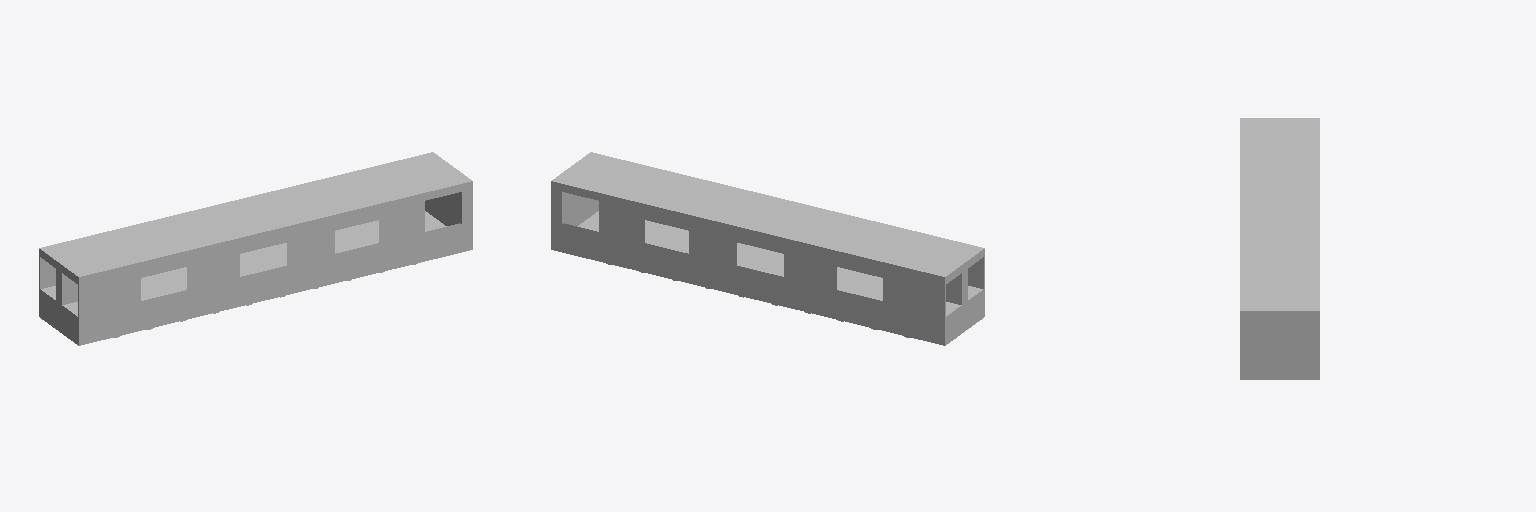
Rendered from train.obj.
The picture shows the model from 3 angles: view 1: azimuth 30°, elevation 25°; view 2: azimuth 150°, elevation 25°; view 3: azimuth 270°, elevation 25°; orthographic projection.
Visible parts, largest first — view 1: Cube.001_Cube.002; view 2: Cube.001_Cube.002; view 3: Cube.001_Cube.002.
Boxes of the visible parts, x1=… form: Cube.001_Cube.002: x1=39, y1=152, x2=472, y2=345; Cube.001_Cube.002: x1=551, y1=152, x2=984, y2=345; Cube.001_Cube.002: x1=1240, y1=118, x2=1319, y2=379.
Bounding box in the file's own units: 191 × 38.23 × 33.31.